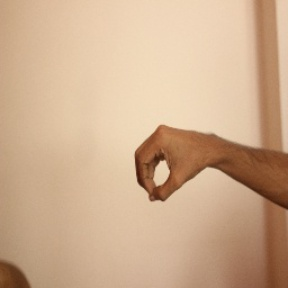O: (133, 121, 216, 204)
